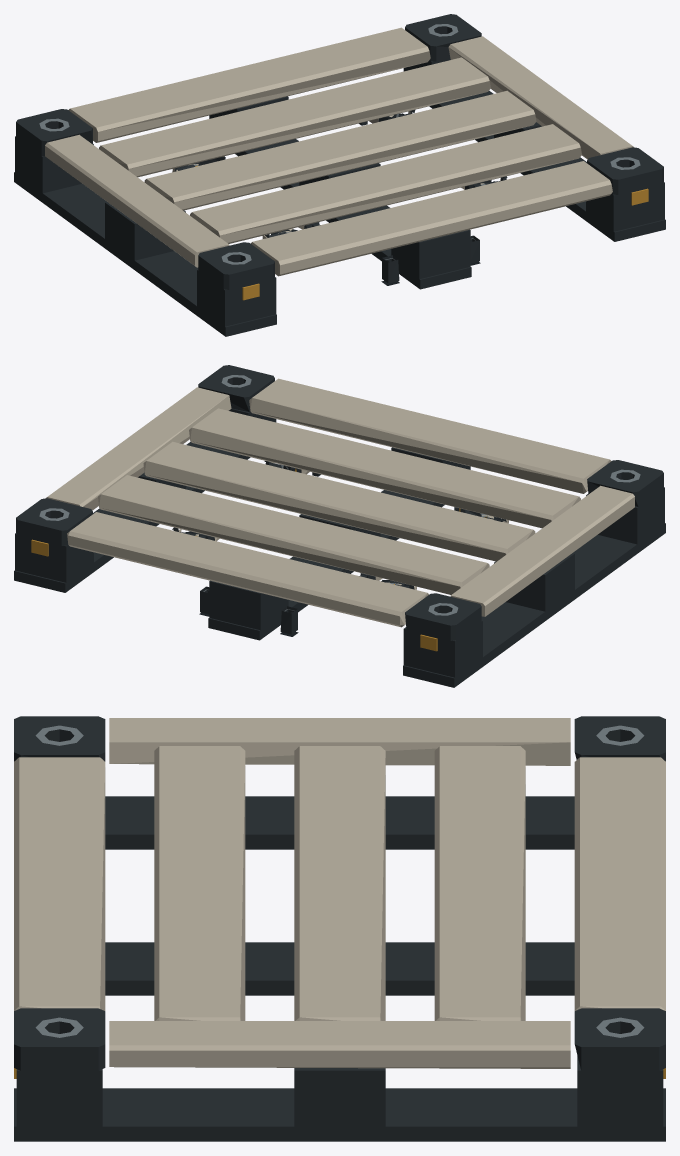
Rendered from stride02_stowed_d0_lod2.glb.
The picture shows the model from 3 angles, top to bottom: view 1: azimuth 30°, elevation 25°; view 2: azimuth 150°, elevation 25°; view 3: azimuth 270°, elevation 25°; orthographic projection. The views are drawn at different scales.
Visible parts, largest first — view 1: STRIDE02_STATIC_SURFACE; view 2: STRIDE02_STATIC_SURFACE; view 3: STRIDE02_STATIC_SURFACE.
Boxes of the visible parts, x1,y1,x2,y2 form: STRIDE02_STATIC_SURFACE: (14, 14, 665, 336); STRIDE02_STATIC_SURFACE: (14, 365, 665, 687); STRIDE02_STATIC_SURFACE: (14, 716, 665, 1141).
Size of the model in its own units: 1.2 by 0.16 by 1.
